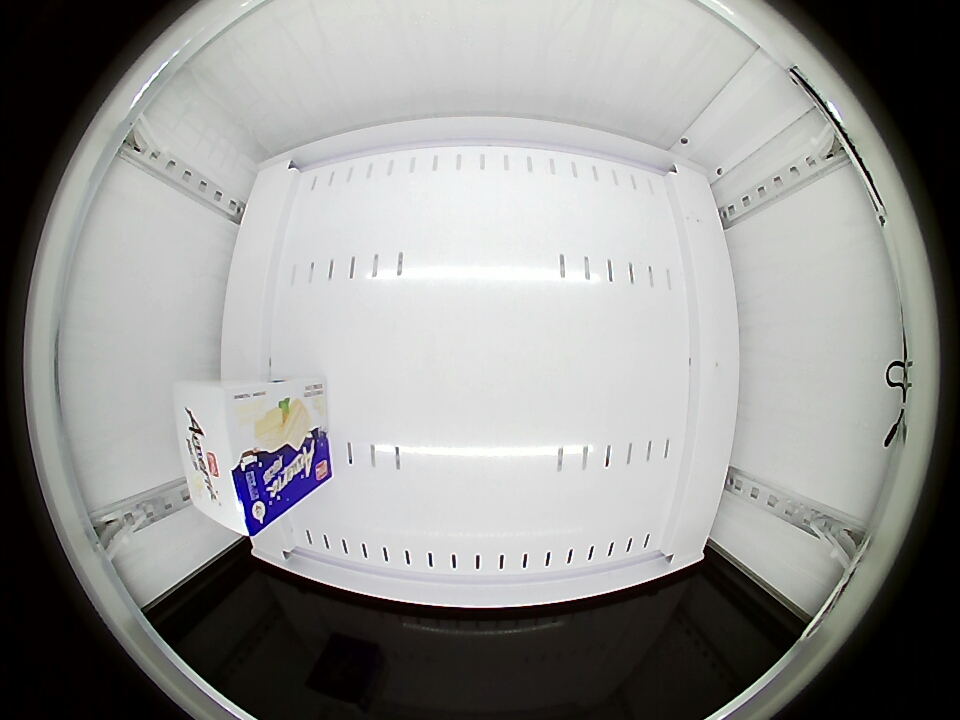meiniye: (177, 383, 284, 539)
